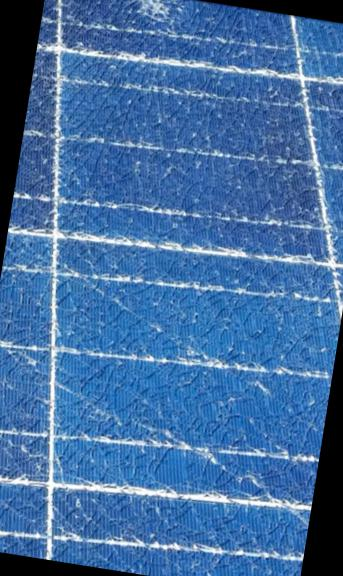Crack: (119, 0, 191, 38)
